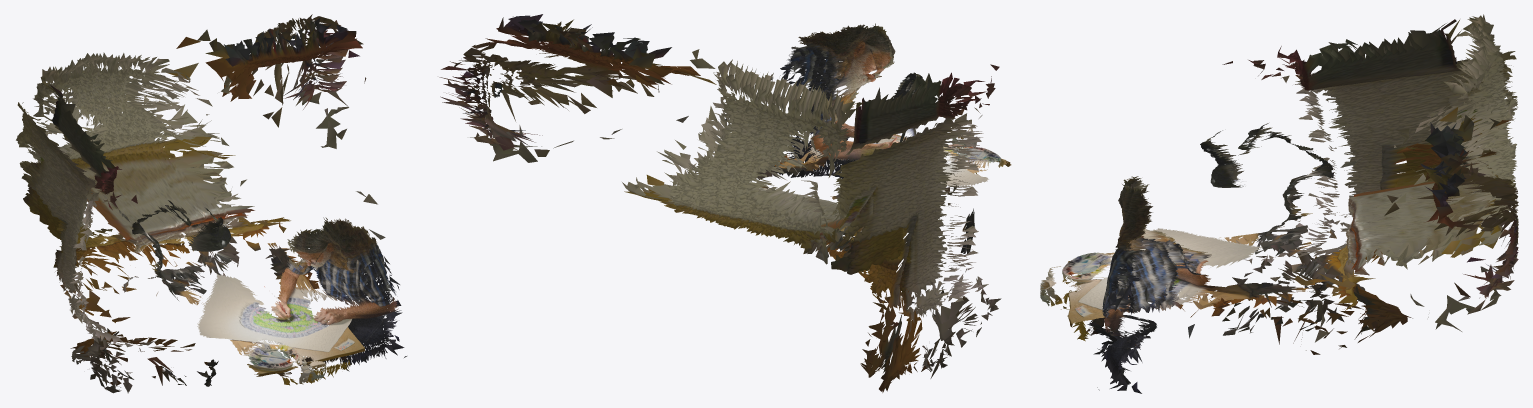
The model's file is goodsell_portrait_mesh_bright.glb.
3 renders of one model, left to right at view 1: azimuth 30°, elevation 25°; view 2: azimuth 150°, elevation 25°; view 3: azimuth 270°, elevation 25°, orthographic. The views are drawn at different scales.
Parts seen in each view (by area): view 1: goodsellportrait; view 2: goodsellportrait; view 3: goodsellportrait.
Boxes of the visible parts, bbox=[...] form: goodsellportrait: bbox=[16, 14, 406, 393]; goodsellportrait: bbox=[439, 14, 1011, 392]; goodsellportrait: bbox=[1040, 14, 1518, 393].
Size of the model in its own units: 2.03 by 1.48 by 1.98.
